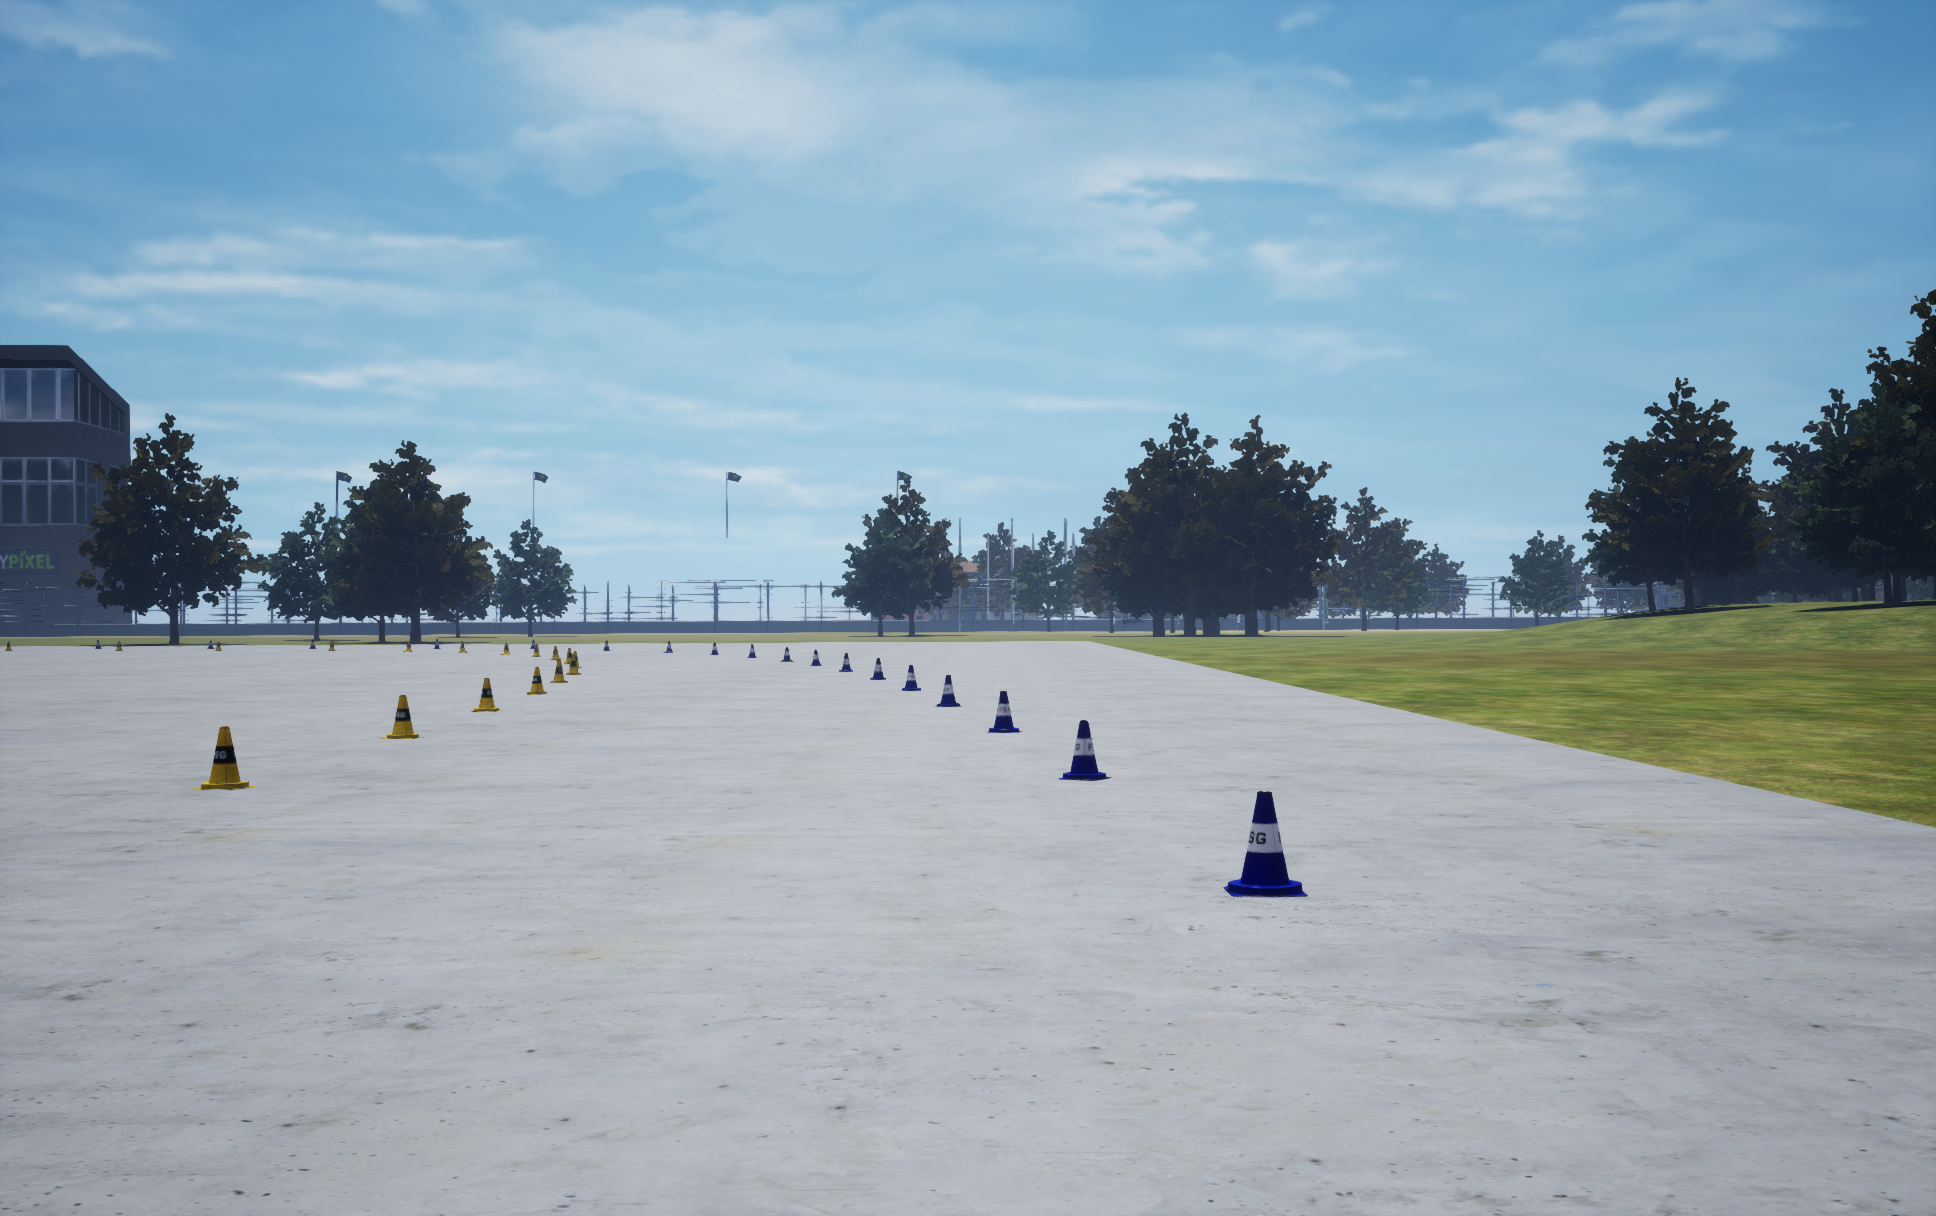blue: (192, 726, 256, 789), (380, 695, 424, 738), (471, 678, 502, 712), (527, 667, 546, 693), (551, 660, 567, 682), (566, 656, 580, 674)
yellow: (1223, 792, 1307, 897), (1058, 720, 1111, 780), (988, 691, 1021, 733), (934, 675, 961, 706), (902, 665, 920, 691), (870, 658, 885, 679), (839, 653, 852, 671)
